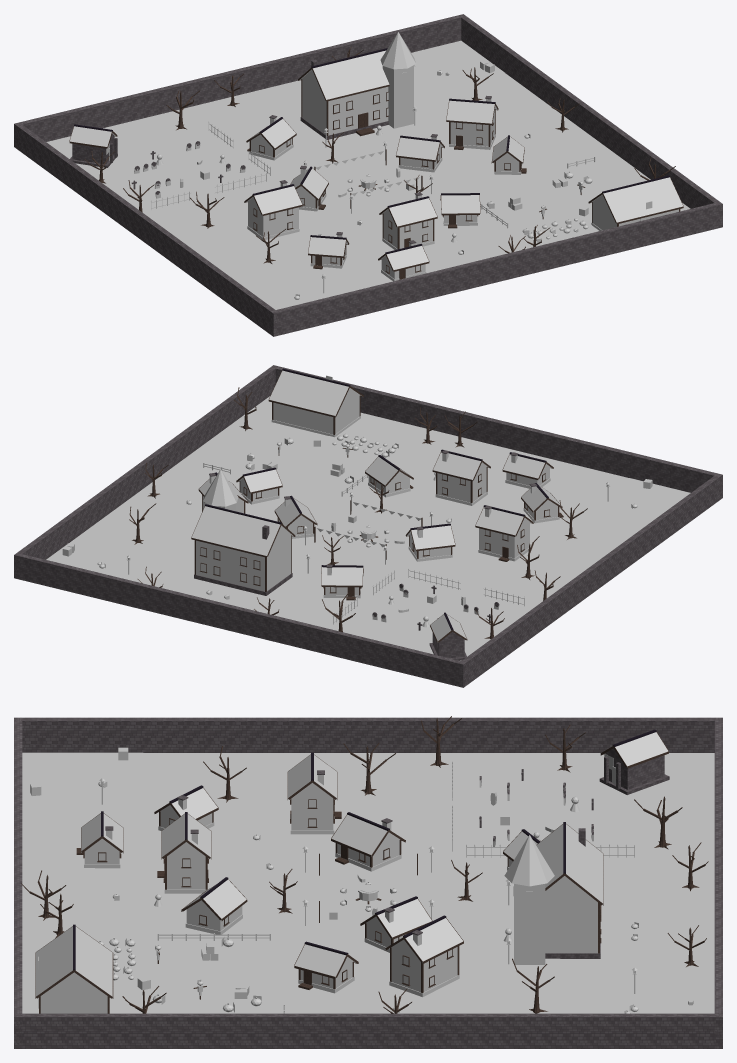
3 renders of one model, top to bottom at view 1: azimuth 30°, elevation 25°; view 2: azimuth 150°, elevation 25°; view 3: azimuth 270°, elevation 25°, orthographic. The views are drawn at different scales.
Parts seen in each view (by area): view 1: Stone_Dark, Ground_DeadGrass, Ground_Mud, Roof_Purple, House_Rotten_Plaster, Site_Tiles, House_Trim, Roof_Brown, Wood_Dark, Ground_Cobble, Ground_Dirt, Roof_Slate (+11 smaller); view 2: Ground_DeadGrass, Stone_Dark, Ground_Mud, Roof_Purple, House_Rotten_Plaster, Site_Tiles, House_Trim, Roof_Brown, Ground_Dirt, Wood_Dark, Ground_Cobble, Roof_Slate (+11 smaller); view 3: Ground_DeadGrass, Stone_Dark, Ground_Mud, House_Rotten_Plaster, Roof_Purple, Site_Tiles, Ground_Dirt, House_Trim, Wood_Dark, Roof_Brown, Ground_Cobble, Roof_Slate (+13 smaller).
Boxes of the visible parts, bbox=[...] form: Stone_Dark: bbox=[14, 14, 722, 336]; Ground_DeadGrass: bbox=[46, 73, 690, 298]; Ground_Mud: bbox=[162, 75, 574, 298]; Roof_Purple: bbox=[246, 32, 497, 270]; House_Rotten_Plaster: bbox=[296, 65, 519, 265]; Site_Tiles: bbox=[115, 146, 587, 219]; House_Trim: bbox=[69, 67, 683, 279]; Roof_Brown: bbox=[308, 137, 683, 256]; Wood_Dark: bbox=[84, 46, 675, 279]; Ground_Cobble: bbox=[322, 165, 419, 208]; Ground_Dirt: bbox=[483, 181, 607, 235]; Roof_Slate: bbox=[69, 126, 524, 213]; Ground_DeadGrass: bbox=[69, 396, 637, 660]; Stone_Dark: bbox=[14, 365, 722, 687]; Ground_Mud: bbox=[79, 449, 648, 626]; Roof_Purple: bbox=[191, 451, 551, 585]; House_Rotten_Plaster: bbox=[196, 463, 557, 591]; Site_Tiles: bbox=[277, 448, 499, 640]; House_Trim: bbox=[191, 370, 562, 642]; Roof_Brown: bbox=[269, 370, 562, 526]; Ground_Dirt: bbox=[254, 435, 387, 488]; Wood_Dark: bbox=[129, 387, 587, 638]; Ground_Cobble: bbox=[318, 517, 413, 559]; Roof_Slate: bbox=[238, 456, 466, 642]; Ground_DeadGrass: bbox=[22, 753, 714, 1013]; Stone_Dark: bbox=[14, 717, 722, 1048]; Ground_Mud: bbox=[46, 762, 690, 1013]; House_Rotten_Plaster: bbox=[160, 805, 597, 992]; Roof_Purple: bbox=[81, 755, 603, 962]; Site_Tiles: bbox=[149, 780, 622, 1001]; Ground_Dirt: bbox=[113, 940, 271, 1013]; House_Trim: bbox=[35, 732, 668, 1013]; Wood_Dark: bbox=[21, 716, 708, 1013]; Roof_Brown: bbox=[35, 788, 431, 998]; Ground_Cobble: bbox=[299, 871, 439, 929]; Roof_Slate: bbox=[181, 732, 668, 977].
Bounding box in the file's own units: 101 × 19.8 × 101.
